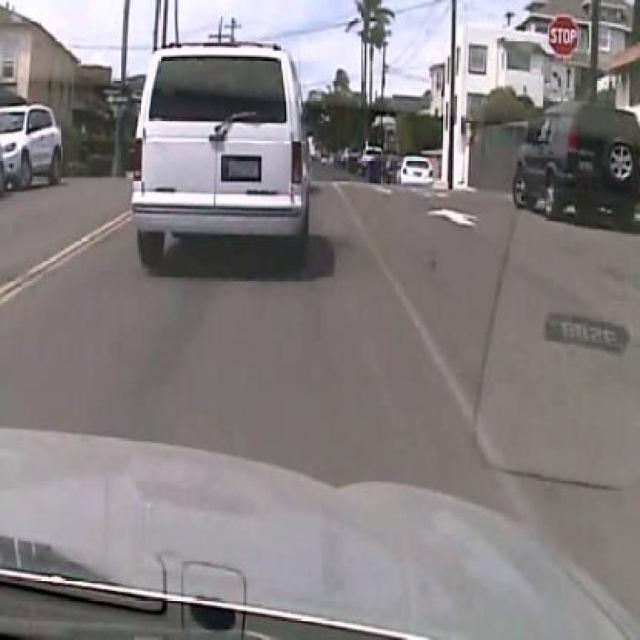stop: (546, 13, 580, 61)
